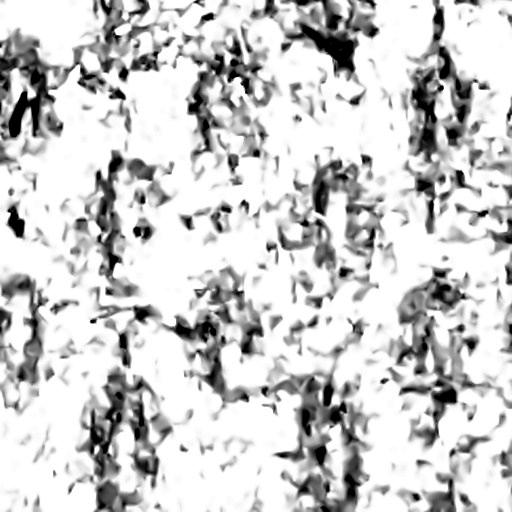egg: (10, 91, 25, 135)
